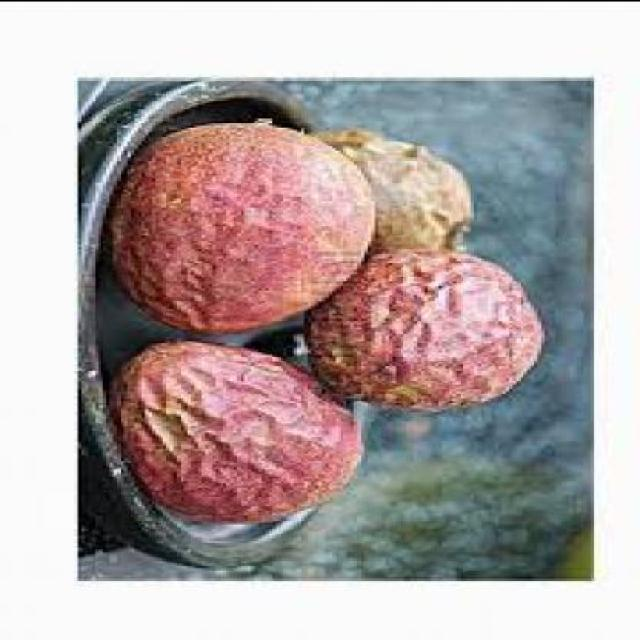BIODEGRADABLE: (112, 125, 375, 334), (111, 343, 363, 522), (309, 251, 545, 412), (315, 129, 474, 255), (546, 520, 594, 583)
